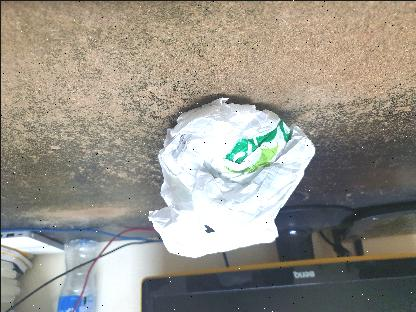Others: (140, 85, 318, 261)
